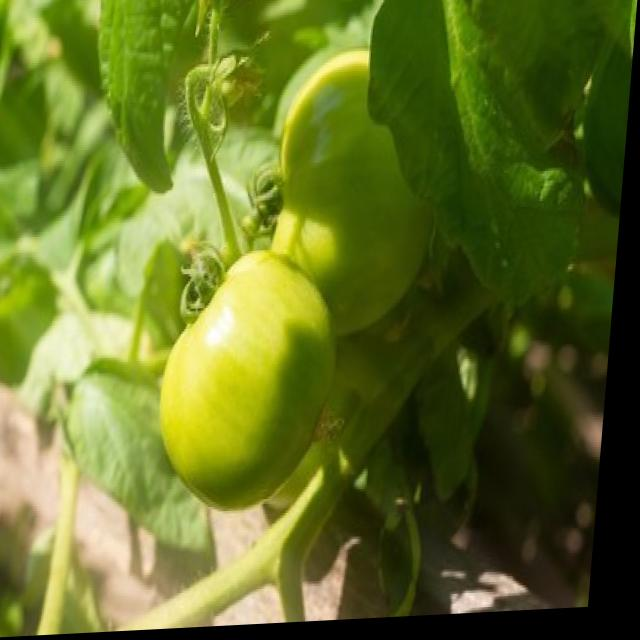yesil: (228, 49, 462, 329), (141, 221, 347, 503)
